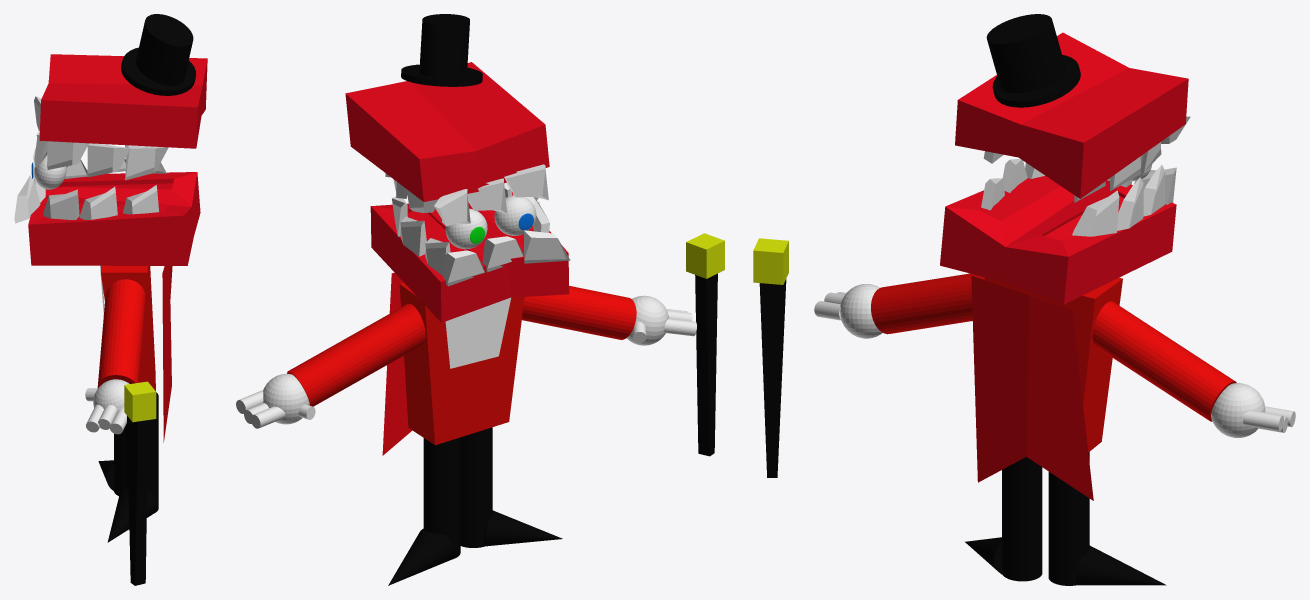
Rendered from Caine_V1.glb.
3 views of the same model, side by side, from view 1: azimuth 30°, elevation 25°; view 2: azimuth 150°, elevation 25°; view 3: azimuth 270°, elevation 25° (orthographic). The views are drawn at different scales.
Parts seen in each view (by area): view 1: Cube.003, Cube.004, Cylinder.001, Cube.001, Cube.002, Cylinder.012, Cube.005, Cube, Plane.001, Cylinder.013, Cylinder.011, Cube.006 (+8 smaller); view 2: Cube.004, Cube, Cube.003, Cylinder, Cube.001, Cylinder.001, Cylinder.010, Cube.002, Cube.005, Cylinder.011, Plane, Cylinder.012 (+9 smaller); view 3: Plane.001, Cube.004, Cube.003, Cylinder, Cube.001, Cylinder.012, Cylinder.011, Cylinder.001, Cube, Cylinder.010, Cube.005, Sphere.004 (+6 smaller).
Boxes of the visible parts, bbox=[...] form: Cube.003: bbox=[28, 172, 200, 265]; Cube.004: bbox=[39, 54, 207, 148]; Cylinder.001: bbox=[97, 279, 145, 387]; Cube.001: bbox=[14, 143, 166, 223]; Cube.002: bbox=[34, 96, 168, 180]; Cylinder.012: bbox=[136, 14, 193, 86]; Cube.005: bbox=[127, 416, 147, 585]; Cube: bbox=[101, 265, 155, 390]; Plane.001: bbox=[162, 266, 172, 442]; Cylinder.013: bbox=[121, 47, 196, 95]; Cylinder.011: bbox=[124, 392, 158, 512]; Cube.006: bbox=[124, 381, 156, 422]; Cube.004: bbox=[345, 62, 549, 201]; Cube: bbox=[399, 283, 524, 445]; Cube.003: bbox=[370, 192, 569, 322]; Cylinder: bbox=[287, 303, 425, 406]; Cube.001: bbox=[392, 183, 570, 286]; Cylinder.001: bbox=[521, 285, 636, 339]; Cylinder.010: bbox=[423, 437, 460, 559]; Cube.002: bbox=[385, 164, 548, 226]; Cube.005: bbox=[695, 273, 717, 456]; Cylinder.011: bbox=[460, 427, 492, 547]; Plane: bbox=[445, 297, 510, 368]; Cylinder.012: bbox=[419, 14, 469, 77]; Plane.001: bbox=[971, 275, 1093, 500]; Cube.004: bbox=[955, 32, 1188, 198]; Cube.003: bbox=[940, 175, 1176, 304]; Cylinder: bbox=[1092, 301, 1236, 421]; Cube.001: bbox=[981, 159, 1176, 236]; Cylinder.012: bbox=[986, 14, 1065, 93]; Cylinder.011: bbox=[1002, 457, 1042, 581]; Cylinder.001: bbox=[871, 273, 984, 334]; Cube: bbox=[984, 277, 1122, 452]; Cylinder.010: bbox=[1048, 452, 1089, 585]; Cube.005: bbox=[759, 279, 786, 477]; Sphere.004: bbox=[1211, 383, 1265, 437].
Bounding box in the file's own units: 7.38 × 14.14 × 12.15.
